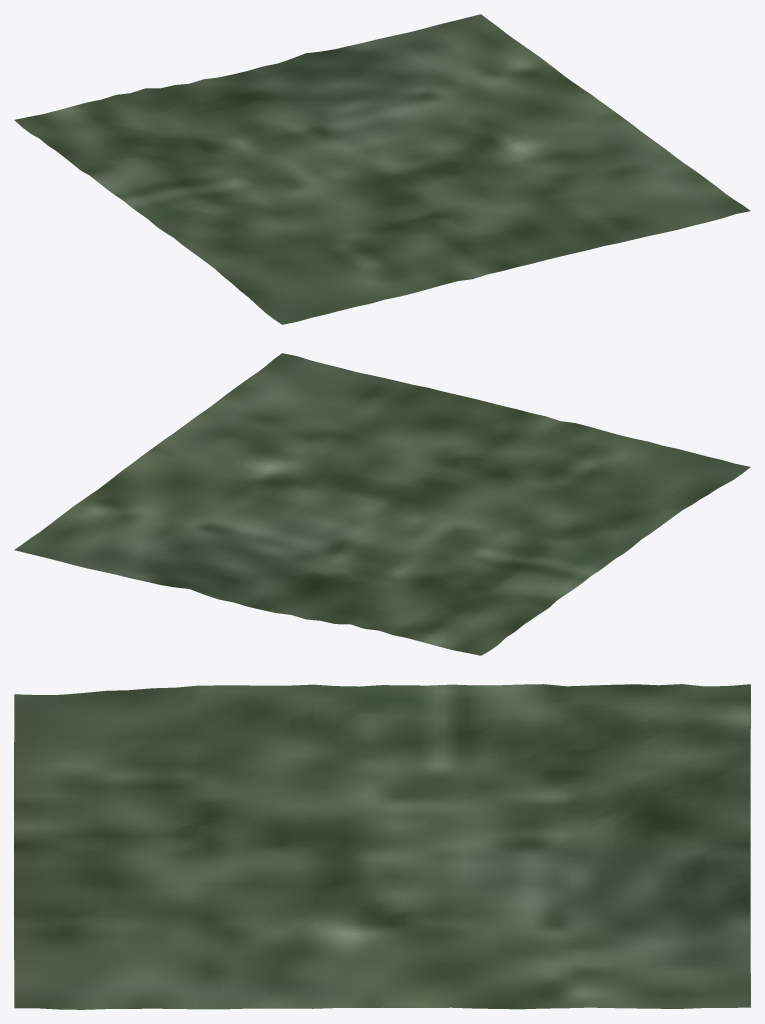
3 views of the same model, one above another, from view 1: azimuth 30°, elevation 25°; view 2: azimuth 150°, elevation 25°; view 3: azimuth 270°, elevation 25° (orthographic). The views are drawn at different scales.
Size of the model in its own units: 31344 by 677 by 31168.
Materials: 1 (1 with a texture image).
